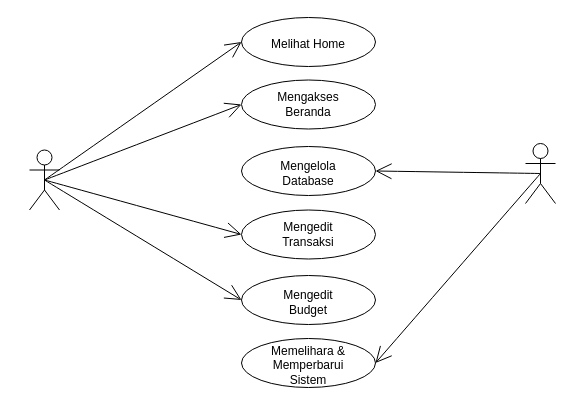
Image size: 575x405. Some labels were removed from this diagram. The centre of each missing label's shape, as x and y in pixels:
Admin: point (540, 173)
Pengguna: point (44, 179)
